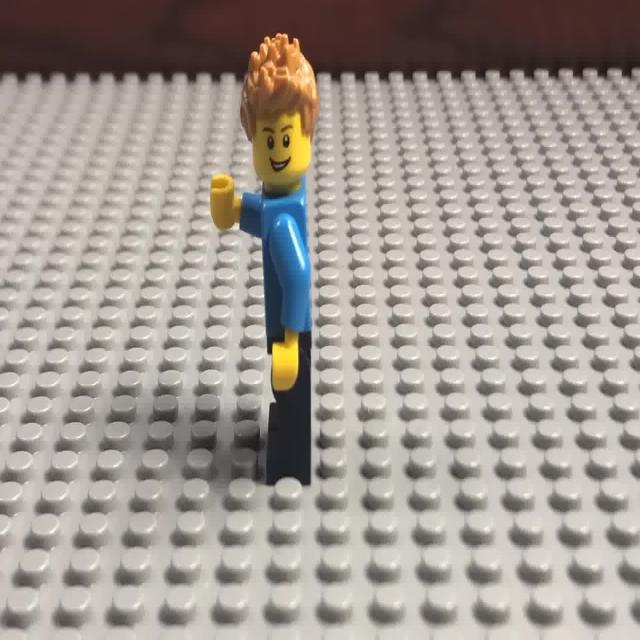4: (276, 217, 311, 386), (207, 170, 260, 238)
hand: (234, 25, 329, 487)
